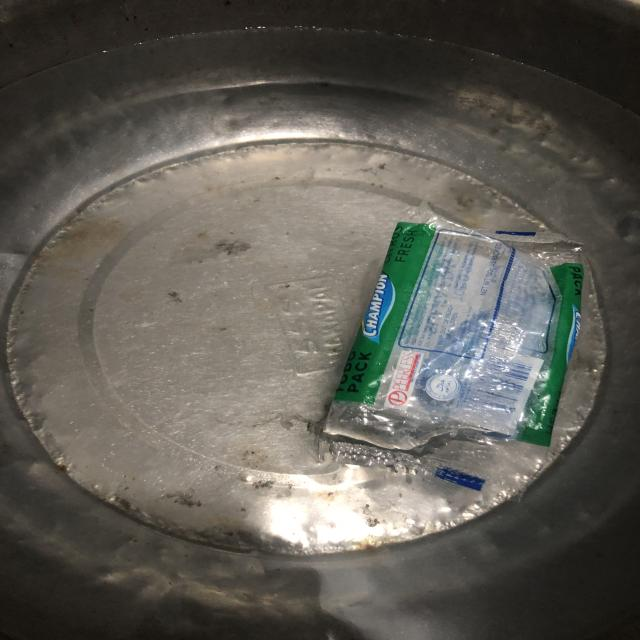Plastic Wrapper: (316, 205, 596, 513)
